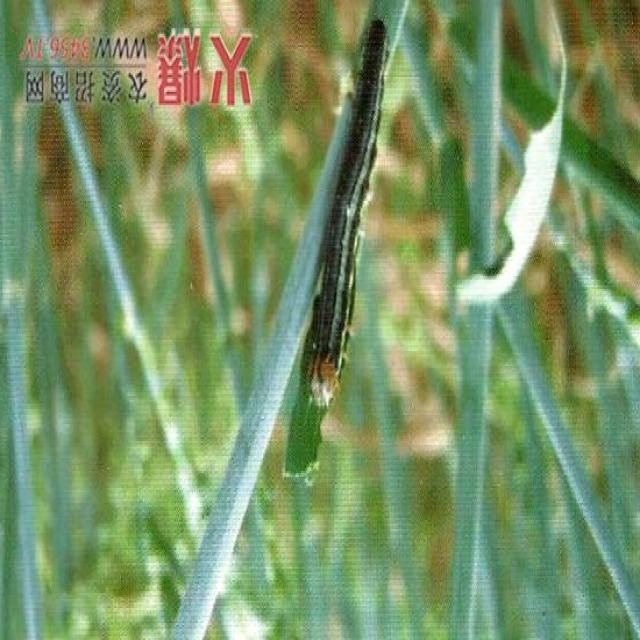army worm: (303, 17, 400, 405)
